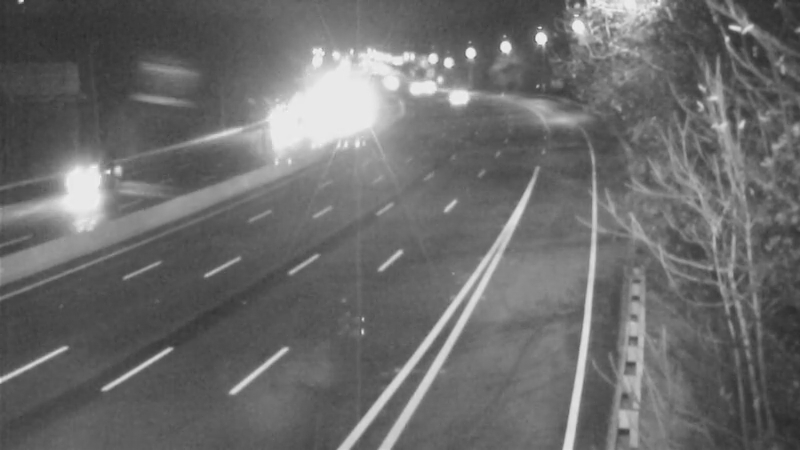vehicle: (46, 141, 126, 221), (394, 60, 444, 110), (430, 72, 480, 122), (261, 105, 311, 155)
